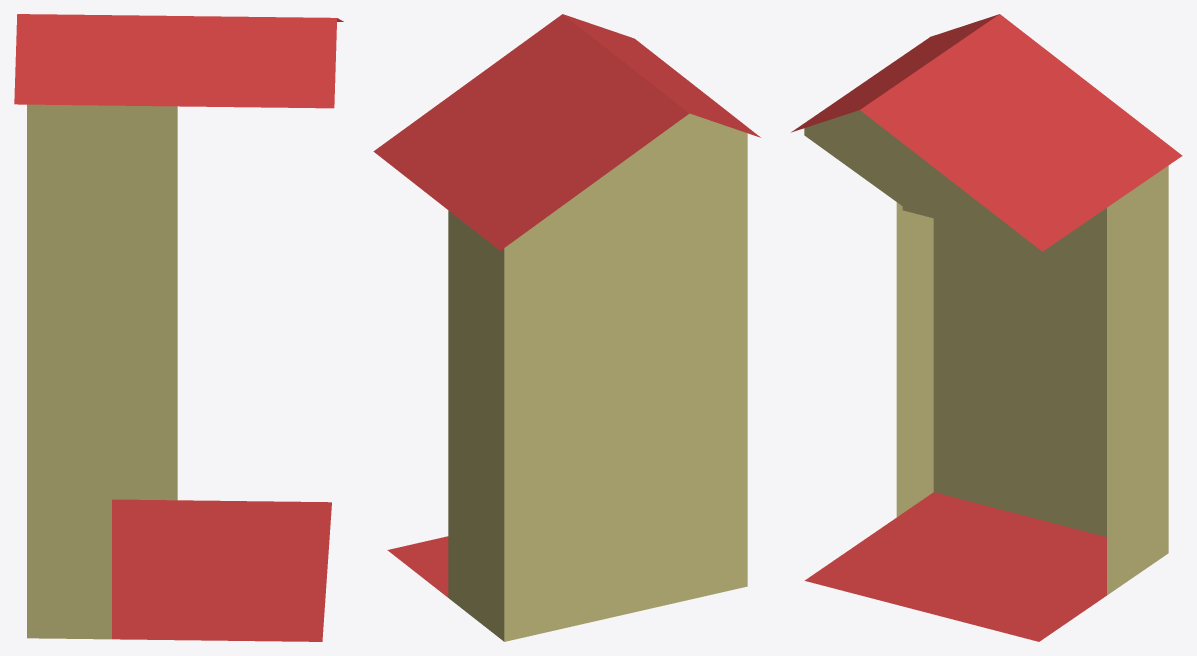
3 renders of one model, left to right at view 1: azimuth 30°, elevation 25°; view 2: azimuth 150°, elevation 25°; view 3: azimuth 270°, elevation 25°, orthographic. The views are drawn at different scales.
Size of the model in its own units: 9.37 by 9.61 by 13.25.
